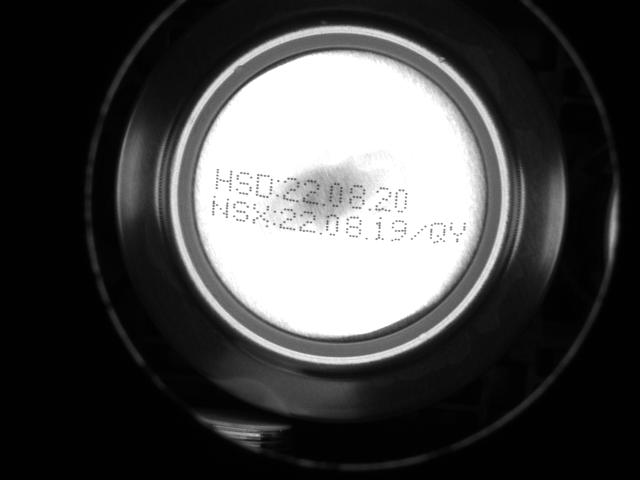.: (320, 193, 327, 209), (318, 224, 324, 238), (363, 229, 369, 243)
/: (409, 221, 427, 244)
0: (328, 180, 345, 208), (324, 210, 341, 238), (391, 186, 408, 214)
1: (372, 216, 387, 241)
2: (282, 174, 300, 205), (301, 175, 319, 206), (278, 202, 296, 233), (298, 205, 316, 236), (373, 184, 391, 215)
8: (348, 182, 367, 212), (343, 213, 362, 243)
9: (390, 217, 408, 245)
:: (274, 177, 281, 199), (271, 207, 278, 229)
D: (254, 172, 273, 199)
H: (213, 165, 233, 193)
N: (210, 193, 230, 221)
Q: (427, 218, 448, 247)
S: (234, 168, 253, 197), (231, 195, 250, 224)
X: (251, 201, 270, 227)
Y: (448, 219, 467, 246)
